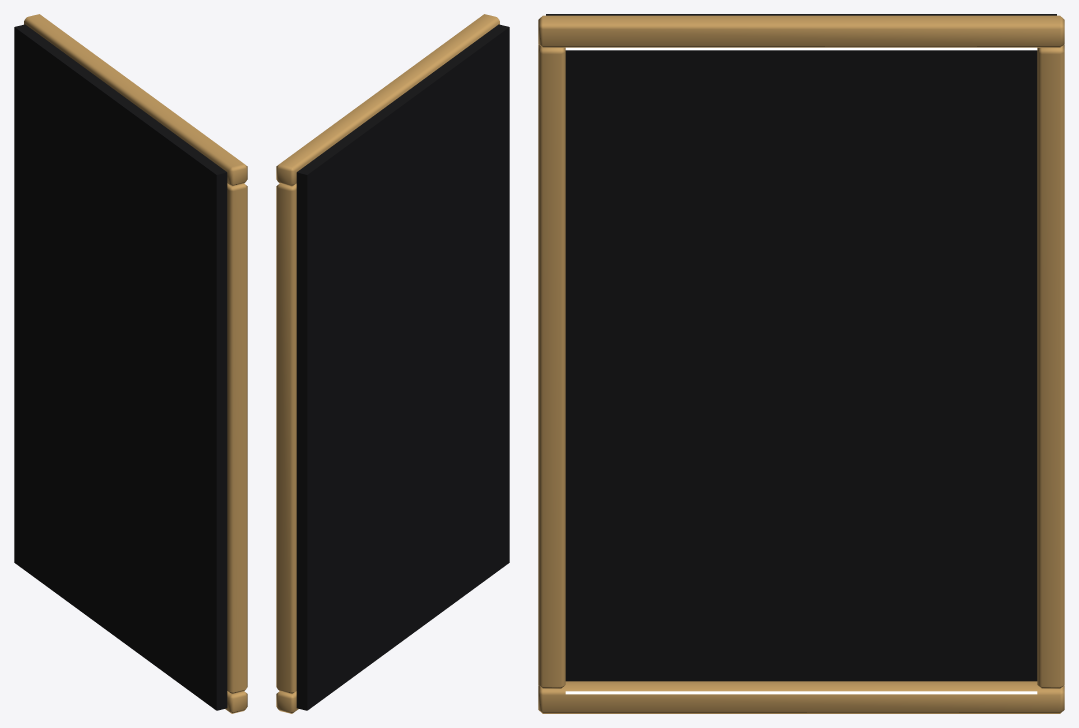
The model's file is poster_case.glb.
The picture shows the model from 3 angles, left to right: view 1: azimuth 30°, elevation 25°; view 2: azimuth 150°, elevation 25°; view 3: azimuth 270°, elevation 25°; orthographic projection. The views are drawn at different scales.
Parts seen in each view (by area): view 1: Mesh_Back, Mesh_Right, Mesh_Top, Mesh_Bottom; view 2: Mesh_Back, Mesh_Left, Mesh_Top, Mesh_Bottom; view 3: Mesh_Back, Mesh_Left, Mesh_Right, Mesh_Top, Mesh_Bottom, Mesh_GlowB, Mesh_GlowT.
Boxes of the visible parts, box(x1,y1,x2,y2) form: Mesh_Back: box(14, 24, 227, 710); Mesh_Right: box(227, 183, 247, 693); Mesh_Top: box(24, 14, 247, 186); Mesh_Bottom: box(225, 691, 247, 713); Mesh_Back: box(296, 24, 509, 710); Mesh_Left: box(276, 183, 296, 693); Mesh_Top: box(276, 14, 499, 186); Mesh_Bottom: box(276, 691, 298, 713); Mesh_Back: box(546, 14, 1056, 681); Mesh_Left: box(1037, 44, 1064, 688); Mesh_Right: box(538, 44, 565, 688); Mesh_Top: box(538, 15, 1064, 47); Mesh_Bottom: box(538, 681, 1064, 713); Mesh_GlowB: box(565, 691, 1037, 694); Mesh_GlowT: box(565, 47, 1037, 50).
Bounding box in the file's own units: 0.114 × 1.94 × 1.34.
